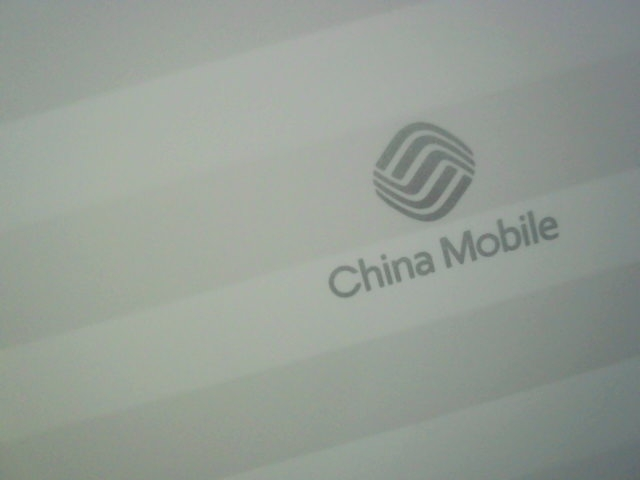AA_ChinaMobile: (304, 108, 578, 302)
